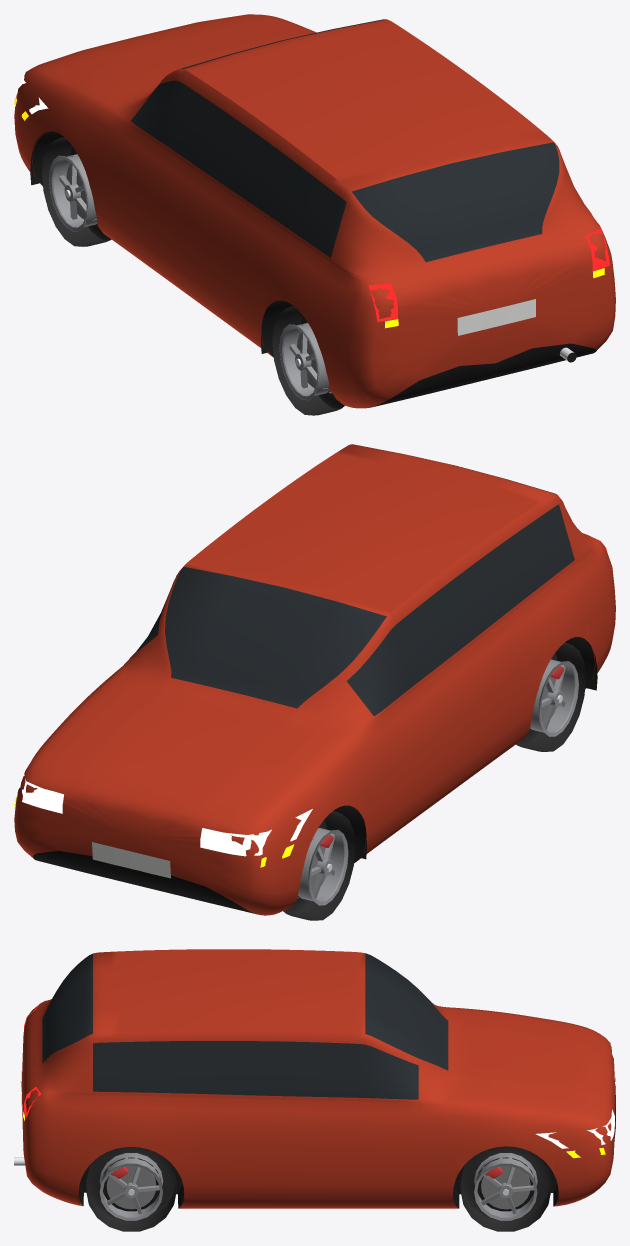
The model's file is t_hatch.glb.
The picture shows the model from 3 angles, top to bottom: view 1: azimuth 30°, elevation 25°; view 2: azimuth 150°, elevation 25°; view 3: azimuth 270°, elevation 25°; orthographic projection. The views are drawn at different scales.
Parts seen in each view (by area): view 1: Body, Wheel_RL, Wheel_FL; view 2: Body, Wheel_FL, Wheel_RL; view 3: Body, Wheel_FR, Wheel_RR.
Part boxes in pixels (box(x1,y1,x2,y2)): Body: box(14, 14, 615, 408); Wheel_RL: box(272, 306, 344, 415); Wheel_FL: box(42, 137, 111, 246); Body: box(14, 444, 615, 915); Wheel_FL: box(283, 811, 355, 920); Wheel_RL: box(516, 642, 585, 751); Body: box(14, 949, 615, 1208); Wheel_FR: box(460, 1146, 551, 1231); Wheel_RR: box(86, 1147, 176, 1231).
Bounding box in the file's own units: 1.75 × 1.46 × 4.1.
